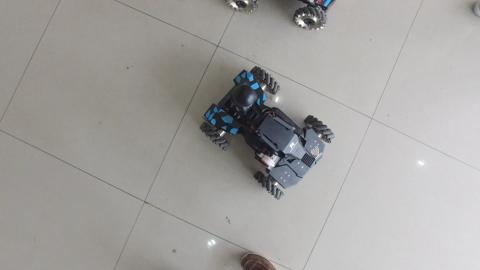chariot: (192, 58, 342, 200)
